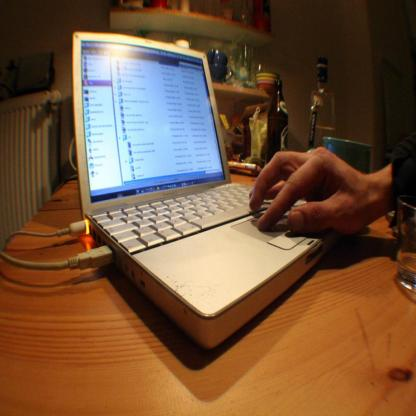board: (69, 38, 314, 352), (311, 52, 336, 150), (268, 72, 288, 162)
